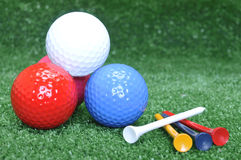blue ball: (84, 63, 150, 128)
red ball: (10, 61, 78, 130)
